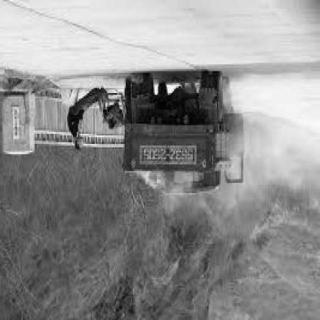Smoke: (217, 77, 317, 255)
